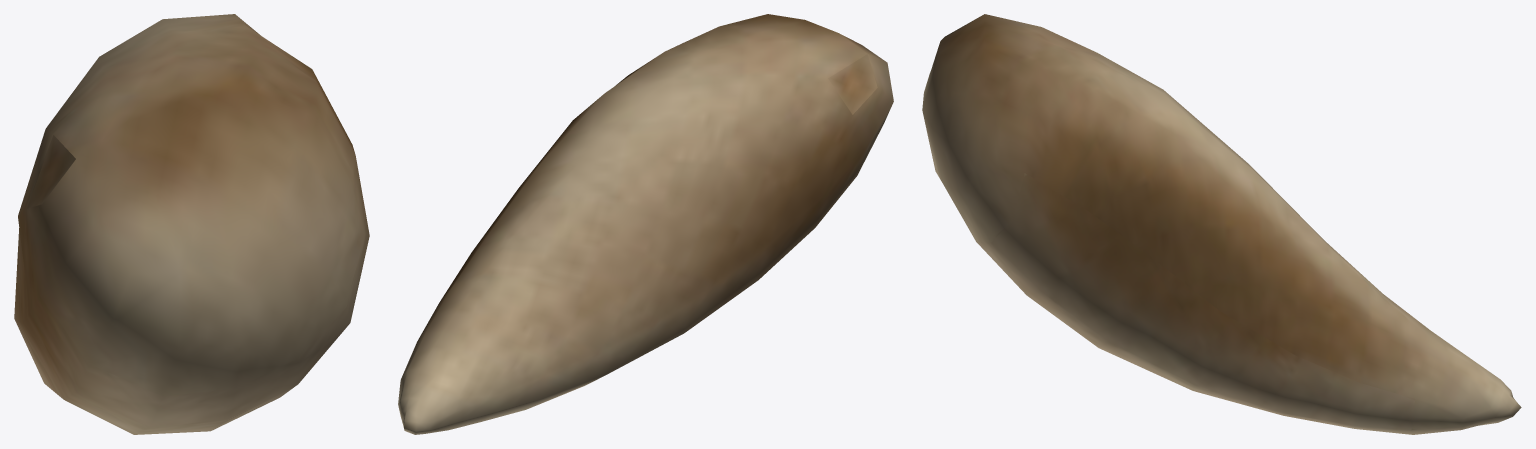
Rendered from Lower_Incisor3.glb.
3 renders of one model, left to right at view 1: azimuth 30°, elevation 25°; view 2: azimuth 150°, elevation 25°; view 3: azimuth 270°, elevation 25°, orthographic. The views are drawn at different scales.
Parts seen in each view (by area): view 1: Lower_Incisor1; view 2: Lower_Incisor1; view 3: Lower_Incisor1.
Boxes of the visible parts, x1=… form: Lower_Incisor1: x1=14, y1=14, x2=369, y2=434; Lower_Incisor1: x1=398, y1=14, x2=893, y2=434; Lower_Incisor1: x1=922, y1=14, x2=1521, y2=434.
Size of the model in its own units: 0.0192 by 0.0193 by 0.0324.
Materials: 1 (1 with a texture image).
